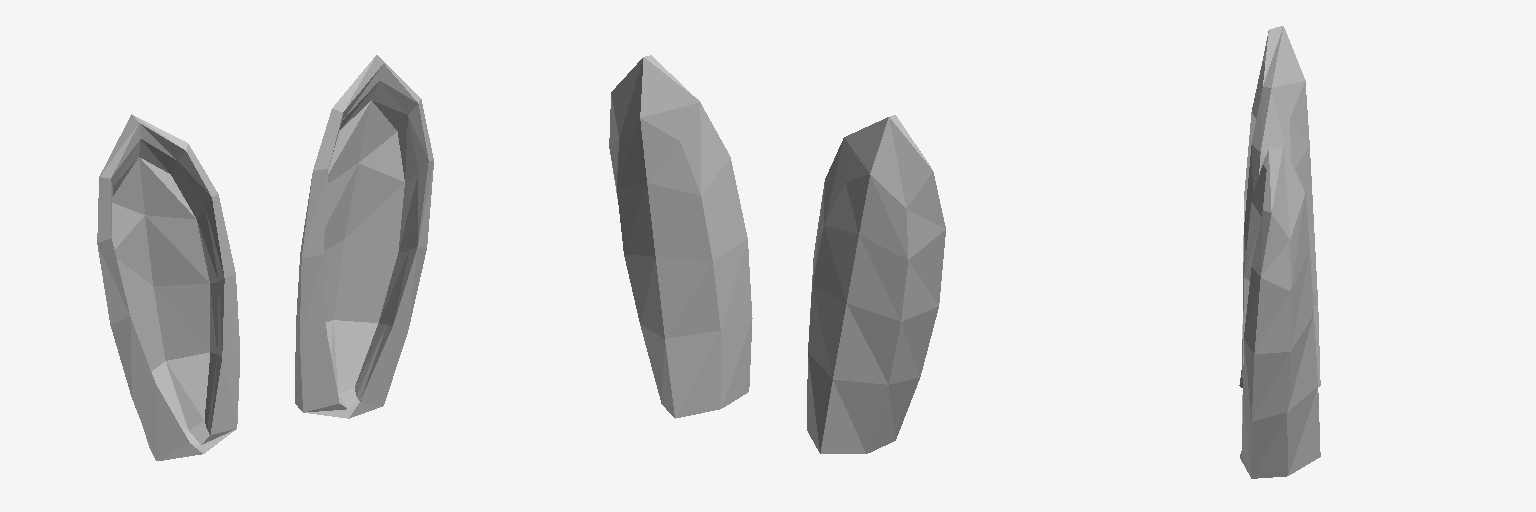
Rendered from rabbitEar.obj.
3 views of the same model, side by side, from view 1: azimuth 30°, elevation 25°; view 2: azimuth 150°, elevation 25°; view 3: azimuth 270°, elevation 25° (orthographic).
Size of the model in its own units: 2.58 by 2.49 by 0.5384.